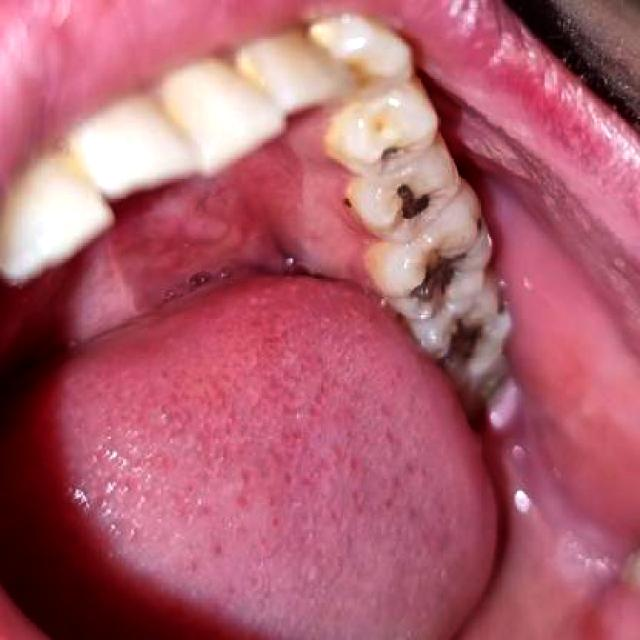Plaque: (416, 238, 468, 309), (446, 310, 493, 356)
